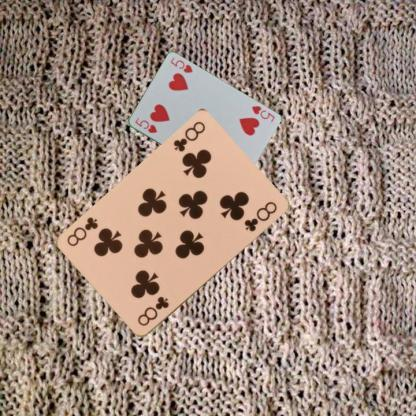5h: (248, 102, 276, 124), (132, 115, 158, 135)
8c: (170, 119, 207, 154), (134, 294, 170, 328)
